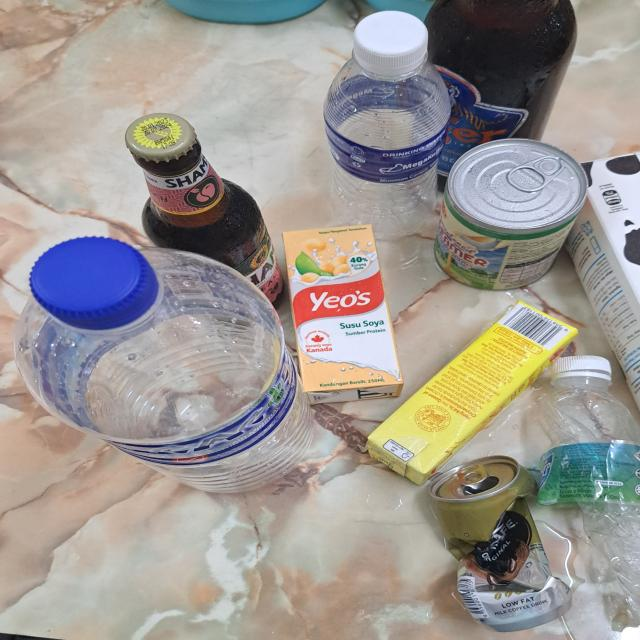can: (424, 458, 566, 630), (436, 140, 595, 287)
drink carton: (369, 300, 576, 479), (283, 222, 410, 410), (580, 147, 640, 412)
glass bottle: (136, 113, 290, 318), (414, 0, 585, 184)
plastic bottle: (15, 254, 306, 497), (528, 378, 640, 630), (328, 66, 446, 251)
plastic bottle cap: (34, 237, 155, 326), (351, 15, 427, 70), (550, 351, 616, 379)
pop tab: (510, 150, 561, 193), (452, 459, 488, 488)
